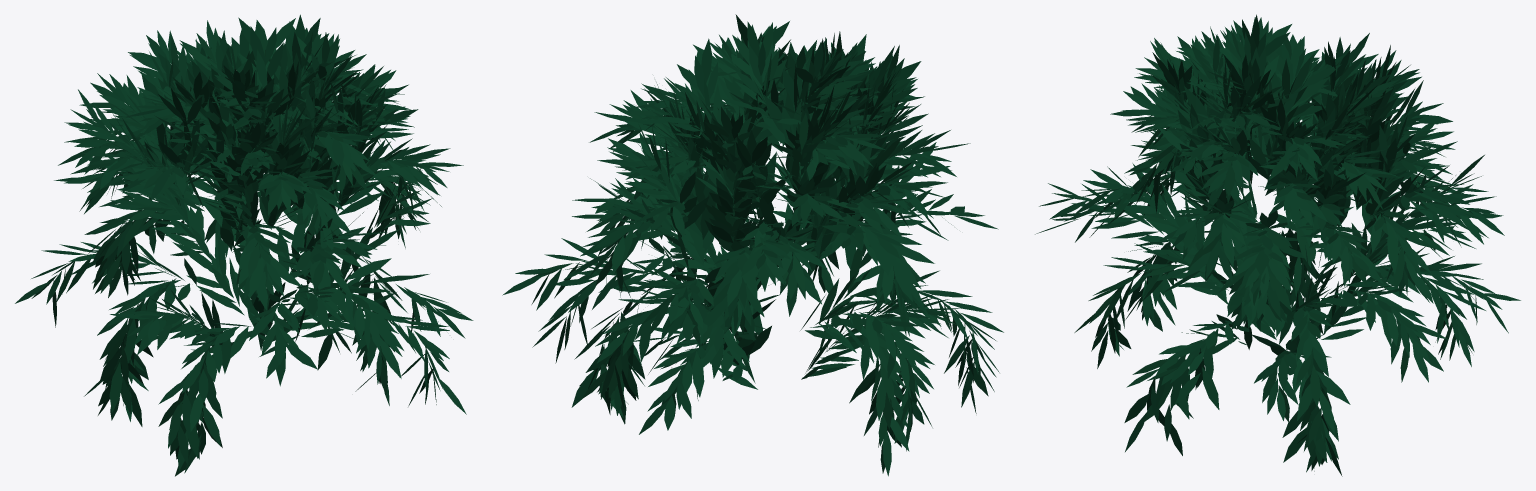
File: coffee_plant_leaves.dae
3 views of the same model, side by side, from view 1: azimuth 30°, elevation 25°; view 2: azimuth 150°, elevation 25°; view 3: azimuth 270°, elevation 25° (orthographic). The views are drawn at different scales.
Parts seen in each view (by area): view 1: leaves; view 2: leaves; view 3: leaves.
Part boxes in pixels (x1,y1,x2,y2): leaves: (15, 14, 473, 476); leaves: (502, 14, 1003, 476); leaves: (1035, 14, 1520, 476).
Size of the model in its own units: 3.24 by 3.67 by 3.19.
